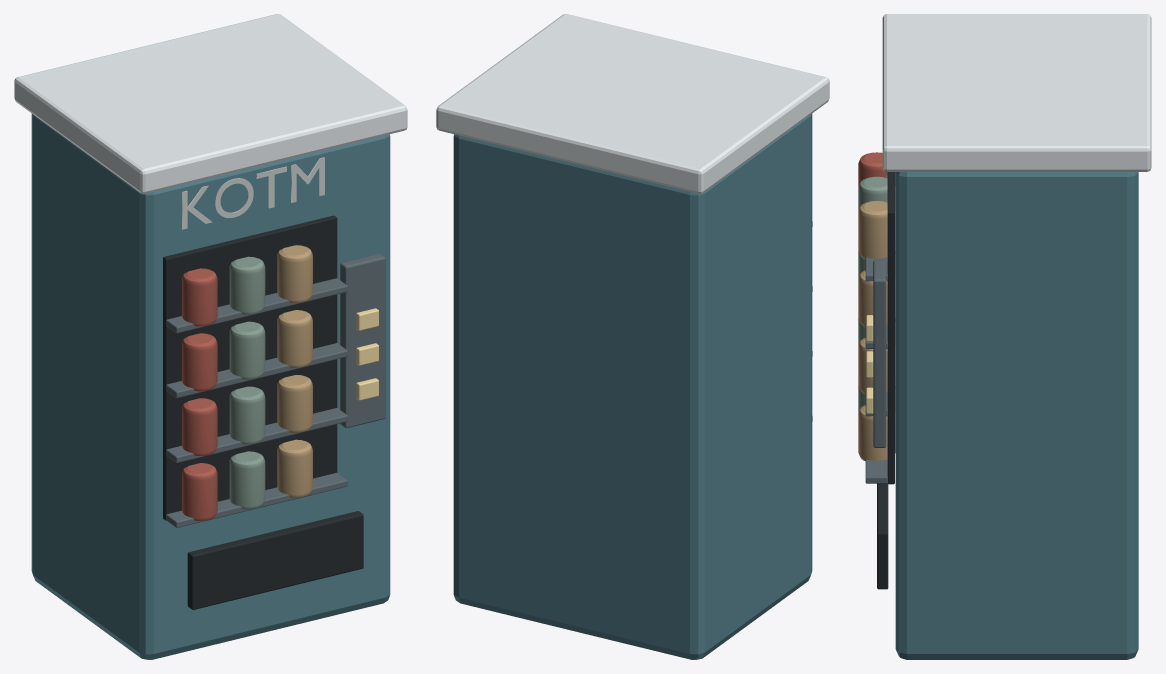
File: resort_vending_machine.glb
The picture shows the model from 3 angles, left to right: view 1: azimuth 30°, elevation 25°; view 2: azimuth 150°, elevation 25°; view 3: azimuth 270°, elevation 25°; orthographic projection. The views are drawn at different scales.
Visible parts, largest first — view 1: resort_vending_machine; view 2: resort_vending_machine; view 3: resort_vending_machine.
Part boxes in pixels (left/top/right/bottom): resort_vending_machine: left=14, top=14, right=407, bottom=659; resort_vending_machine: left=436, top=14, right=829, bottom=659; resort_vending_machine: left=858, top=14, right=1151, bottom=659.
Size of the model in its own units: 1.12 by 2.01 by 1.03.
